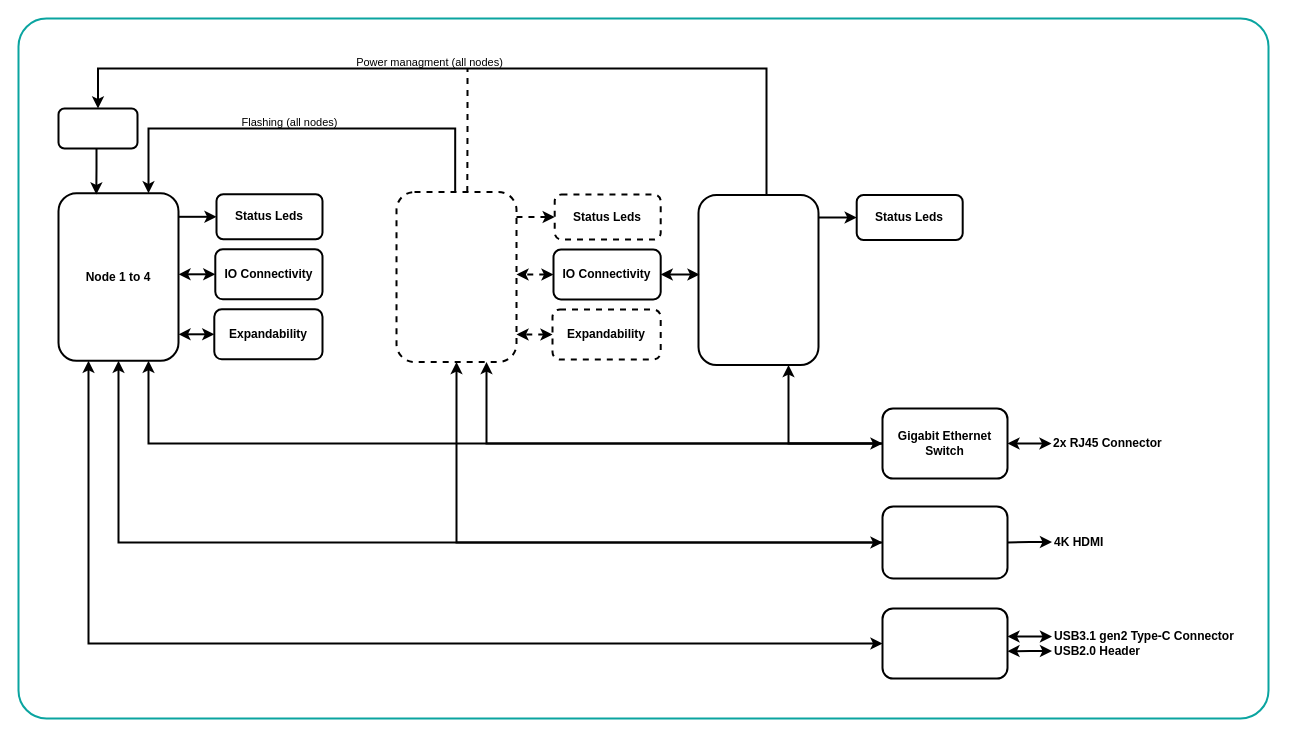
The diagram is 1295 pixels wide and 736 high, and some of its shapes have lost their labels. The shapes that lost their labels are listed below. From the top down, each one's box as (x1, y1, x2, y2) in pixels, then its label:
(57, 107, 138, 149): Power Management
(395, 190, 517, 362): Optional BMC (Toradex Verdin)
(697, 194, 819, 366): Onboard BMC
(881, 505, 1008, 579): HDMI Multiplexer - Dipswitch override
(881, 607, 1008, 679): USB Multiplexer - Dipswitch override
